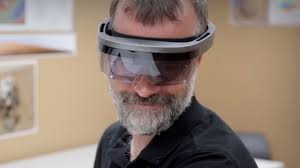hololens: (93, 19, 217, 84)
